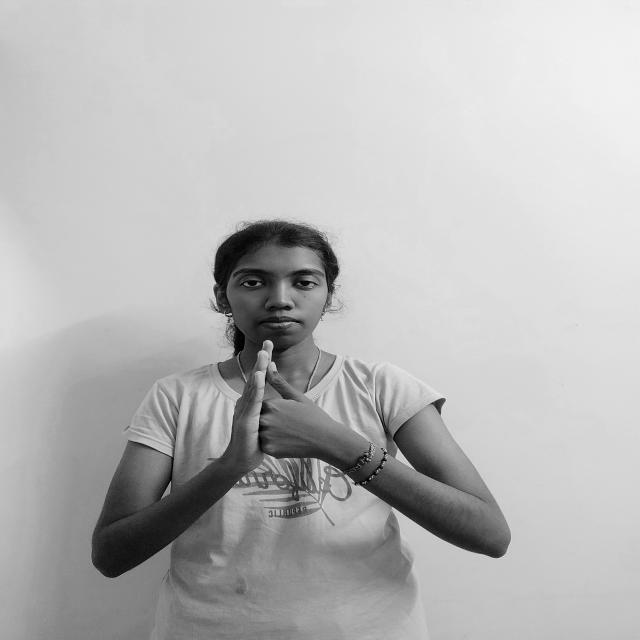Well Done: (201, 334, 360, 475)
